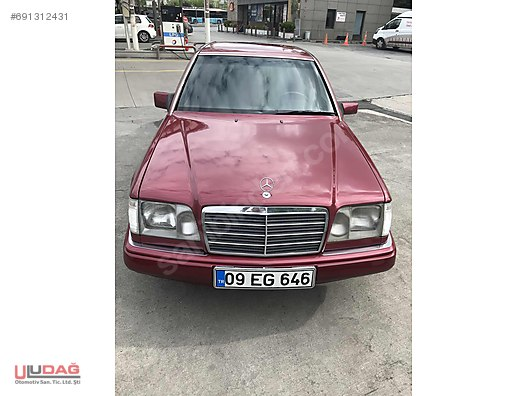mercedes: (123, 35, 395, 292)
